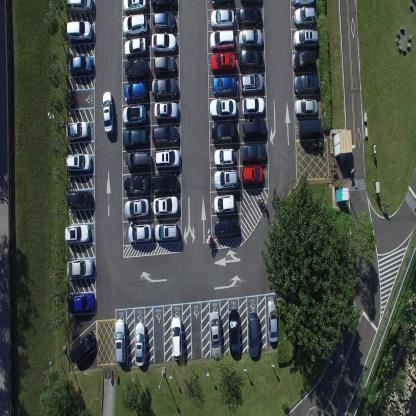car: (69, 328, 97, 364), (65, 255, 94, 279), (66, 19, 92, 45), (68, 291, 96, 315), (101, 89, 115, 136), (151, 171, 179, 194), (227, 307, 240, 355), (122, 13, 148, 37), (64, 222, 91, 245), (209, 96, 236, 119), (151, 75, 178, 98), (151, 124, 179, 146), (65, 187, 93, 209), (114, 318, 127, 364), (241, 117, 267, 140), (211, 121, 237, 144), (154, 148, 180, 171), (67, 55, 93, 78), (152, 194, 179, 216), (247, 310, 259, 359), (122, 173, 150, 194), (209, 310, 221, 358), (134, 320, 146, 368), (127, 221, 152, 244), (297, 116, 322, 139), (210, 51, 235, 74), (212, 168, 238, 190), (293, 73, 319, 95), (237, 49, 263, 71), (124, 196, 150, 218), (122, 127, 148, 149), (66, 152, 92, 174), (292, 48, 316, 71), (154, 100, 178, 123), (239, 164, 264, 186), (293, 26, 318, 48), (209, 29, 234, 51), (65, 120, 90, 142), (240, 141, 266, 162), (125, 150, 151, 171), (170, 316, 182, 360), (238, 27, 262, 49), (239, 72, 263, 94), (212, 74, 236, 96), (241, 94, 265, 116), (152, 10, 176, 32), (122, 103, 146, 125), (154, 221, 179, 242), (214, 217, 239, 238), (151, 33, 176, 54), (236, 7, 262, 27), (267, 297, 278, 344), (212, 192, 235, 214), (124, 36, 146, 59), (124, 60, 148, 81), (209, 9, 234, 29), (292, 5, 315, 26), (153, 55, 176, 76), (123, 82, 147, 102), (213, 146, 235, 166), (294, 96, 318, 114), (66, 0, 93, 15), (121, 0, 147, 14), (150, 0, 177, 11), (211, 0, 235, 8), (290, 0, 317, 7), (239, 0, 263, 7)
